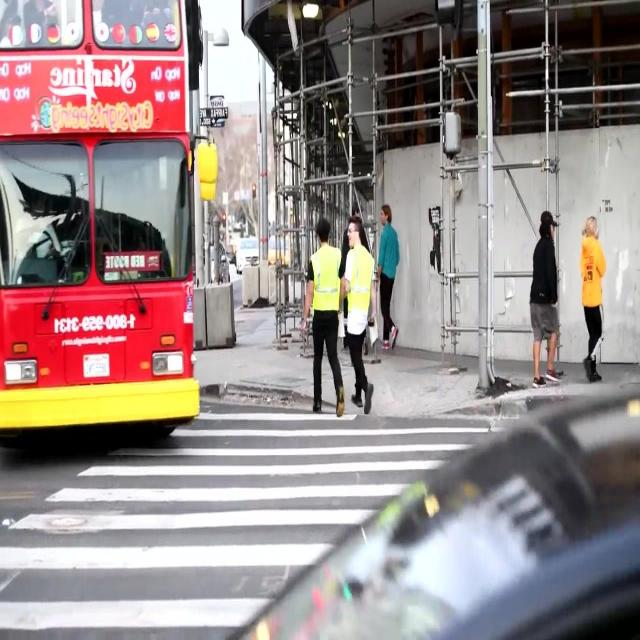Reflective-Jacket: (346, 245, 374, 332), (310, 245, 342, 311)
Safety-Helmet: (539, 208, 557, 229), (316, 217, 331, 234), (348, 220, 362, 232)
